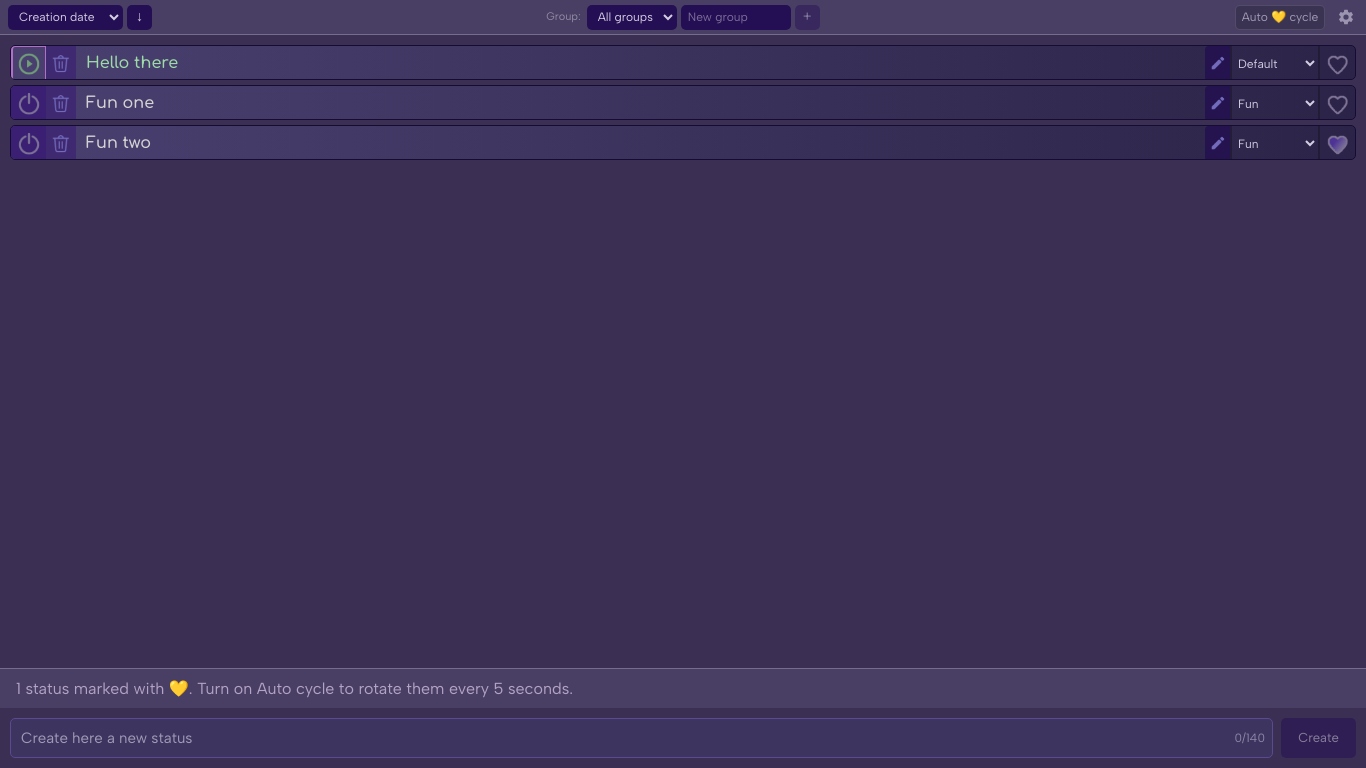
Test case: StatusPage › filters rows by the selected group
Expected: the number of list items is 3, [10,45,1356,80]; [10,85,1356,120]; [10,125,1356,160]
Select "Fun" in the dropdown named "Filter by group" at coordinates (632, 17), box [587,4,677,30]
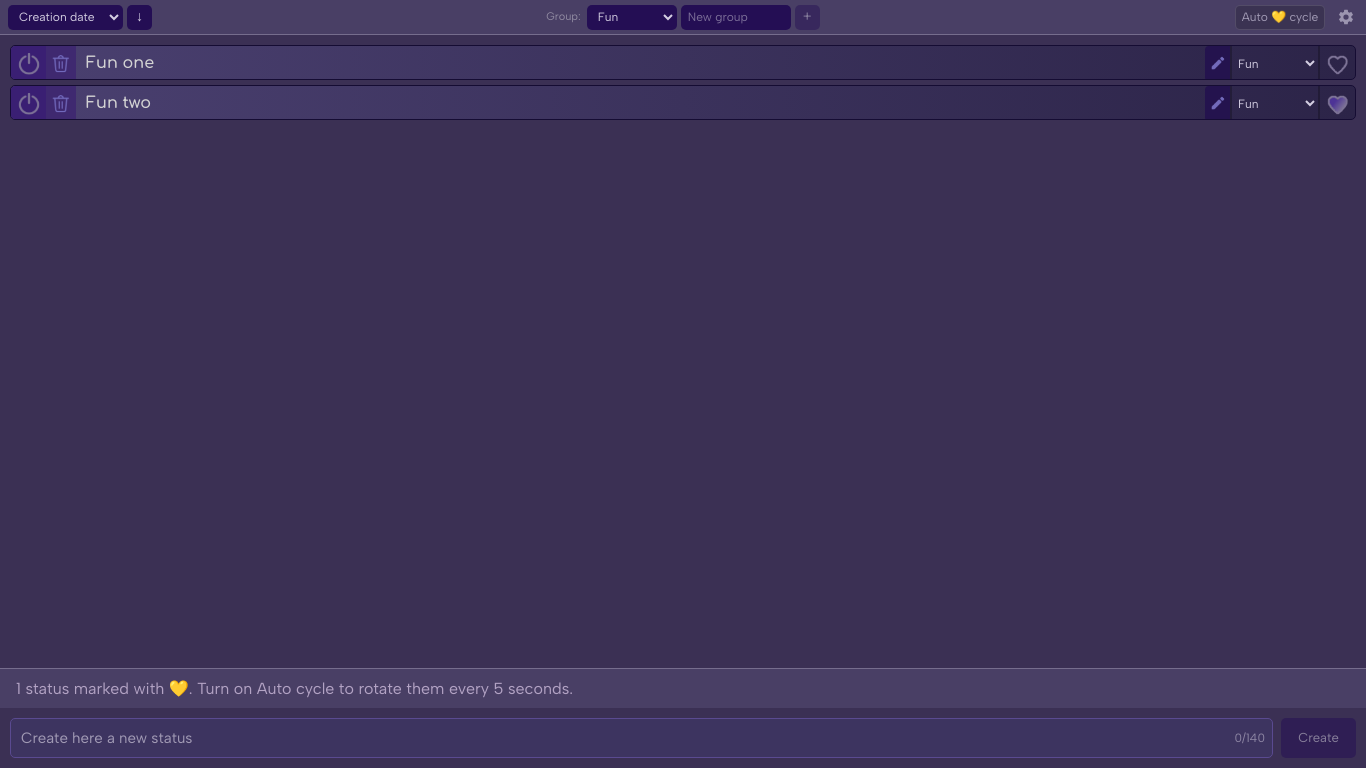
Expected: the number of list items is 2, [10,45,1356,80]; [10,85,1356,120]
Expected: the text "Hello there" is gone
Select "Default" in the dropdown named "Filter by group" at coordinates (632, 17), box [587,4,677,30]
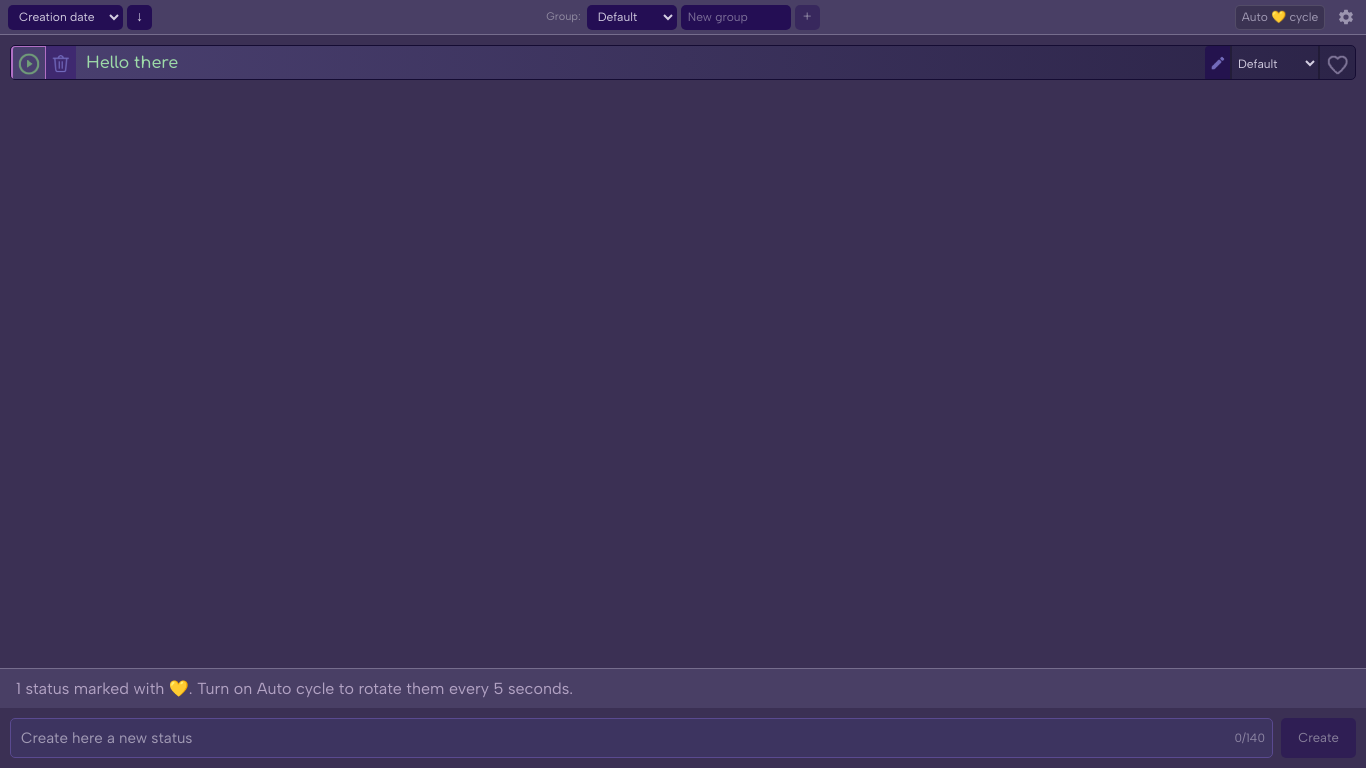
Expected: the number of list items is 1, [10,45,1356,80]
Expected: the text "Hello there" is shown, [86,53,178,74]
